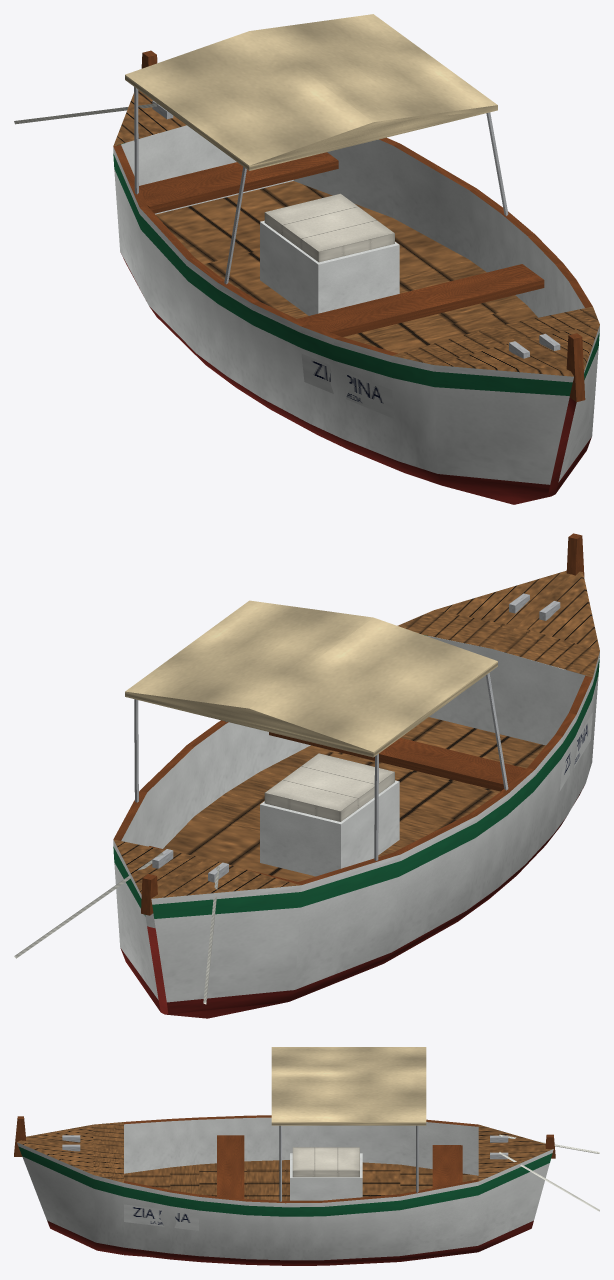
The model's file is SM_Morin_Barca_Gozzo_FasciaVerde_LOD1.fbx.
The picture shows the model from 3 angles, top to bottom: view 1: azimuth 30°, elevation 25°; view 2: azimuth 150°, elevation 25°; view 3: azimuth 270°, elevation 25°; orthographic projection. The views are drawn at different scales.
Parts seen in each view (by area): view 1: SM_Morin_Barca_Gozzo_FasciaVerde_LOD1; view 2: SM_Morin_Barca_Gozzo_FasciaVerde_LOD1; view 3: SM_Morin_Barca_Gozzo_FasciaVerde_LOD1.
Boxes of the visible parts, x1,y1,x2,y2 form: SM_Morin_Barca_Gozzo_FasciaVerde_LOD1: [14, 14, 599, 504]; SM_Morin_Barca_Gozzo_FasciaVerde_LOD1: [14, 533, 599, 1018]; SM_Morin_Barca_Gozzo_FasciaVerde_LOD1: [14, 1047, 599, 1265].
Bounding box in the file's own units: 229 × 644 × 222.
Materials: 1 (1 with a texture image).
